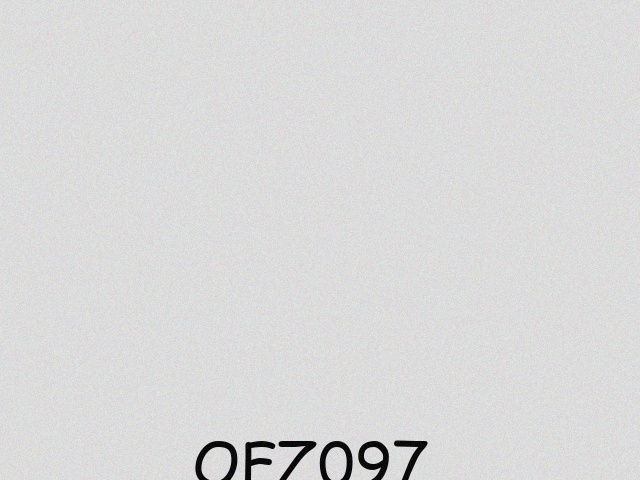OCR_AREA: (188, 436, 433, 480)
